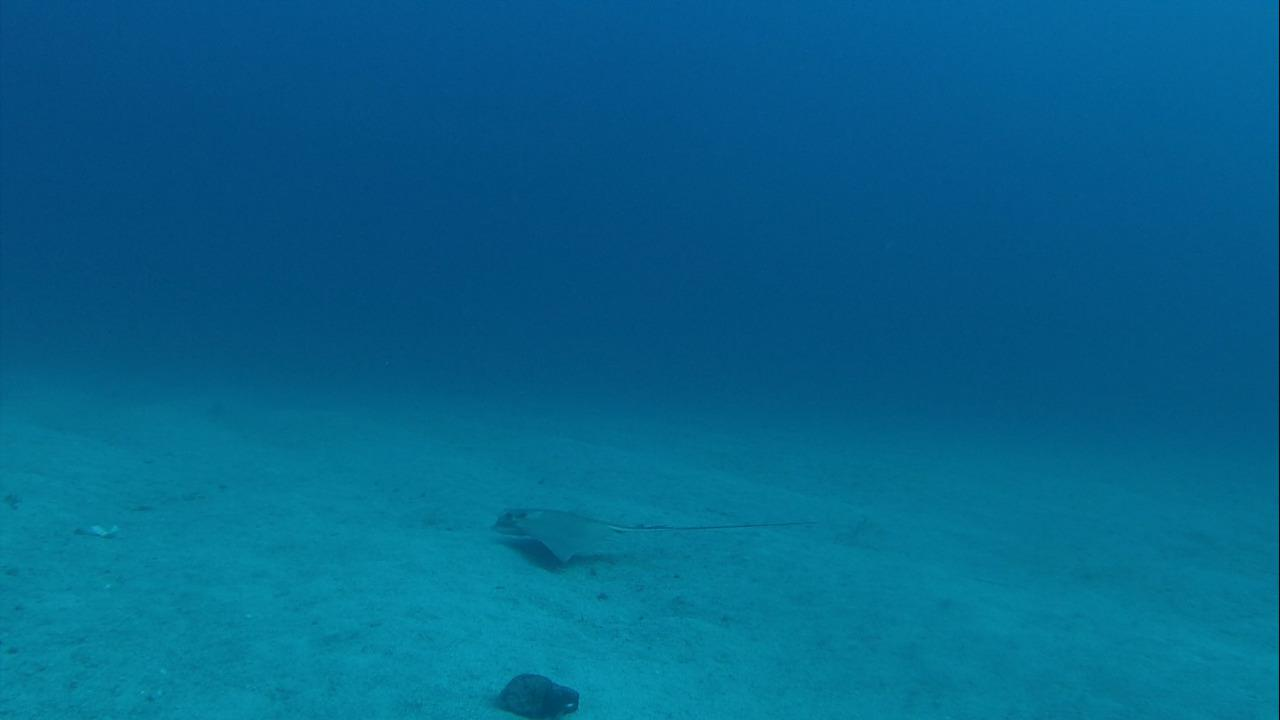myliobatis: (482, 502, 826, 573)
